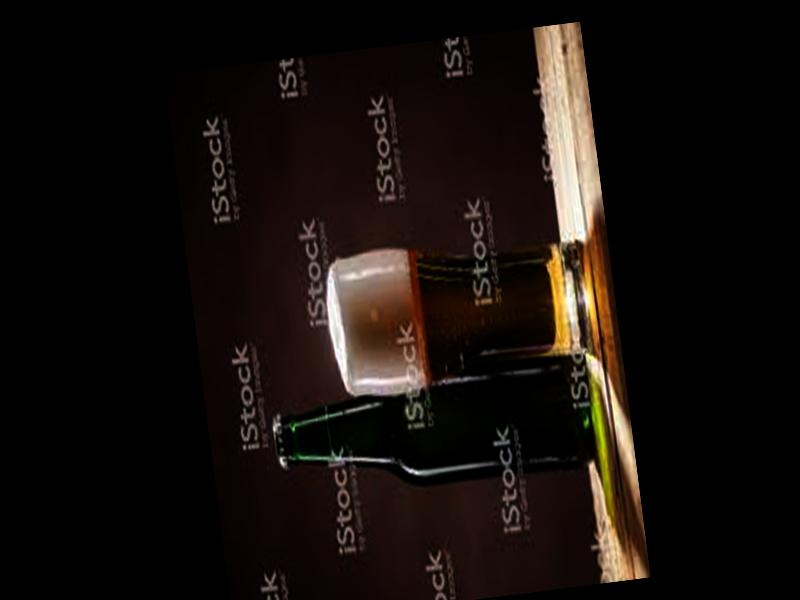Beer: (268, 350, 599, 506)
